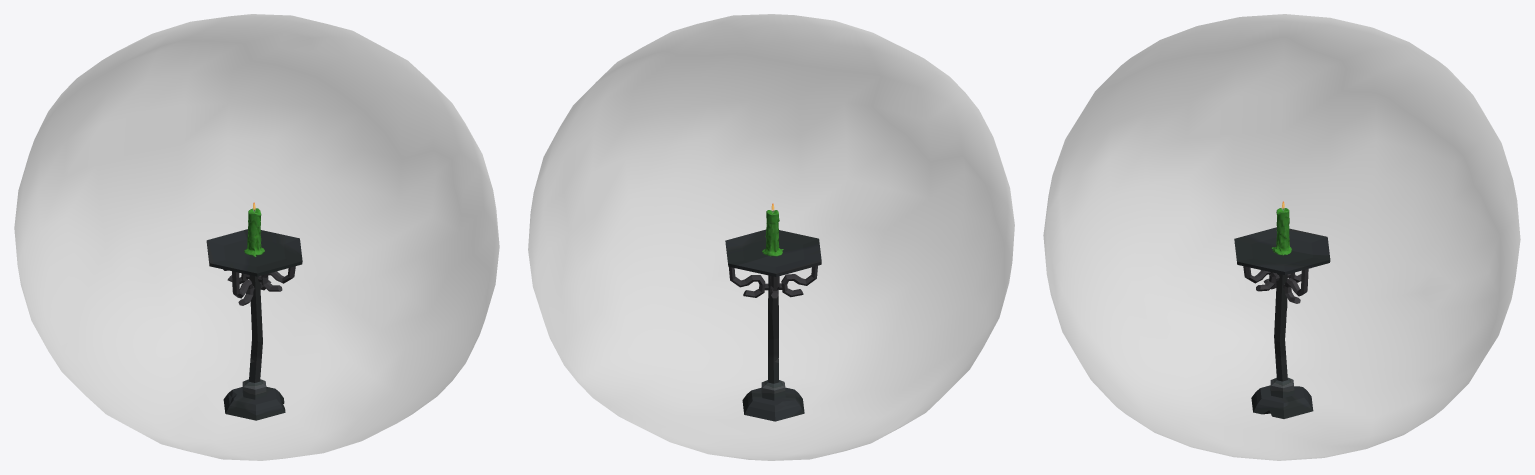
The model's file is ecclesiasticalTallComplete.glb.
3 renders of one model, left to right at view 1: azimuth 30°, elevation 25°; view 2: azimuth 150°, elevation 25°; view 3: azimuth 270°, elevation 25°, orthographic.
Parts seen in each view (by area): view 1: Room, Candle_Stand, XBase; view 2: Room, Candle_Stand, XBase; view 3: Room, Candle_Stand, XBase.
Boxes of the visible parts, x1,y1,x2,y2 form: Room: (14, 14, 499, 460); Candle_Stand: (206, 229, 302, 420); XBase: (244, 208, 264, 257); Room: (528, 14, 1014, 460); Candle_Stand: (725, 229, 821, 421); XBase: (762, 210, 783, 256); Room: (1043, 14, 1520, 460); Candle_Stand: (1234, 227, 1330, 418); XBase: (1271, 208, 1292, 255).
Size of the model in its own units: 21.63 by 19.57 by 21.63.
4 materials, 3 textured.
